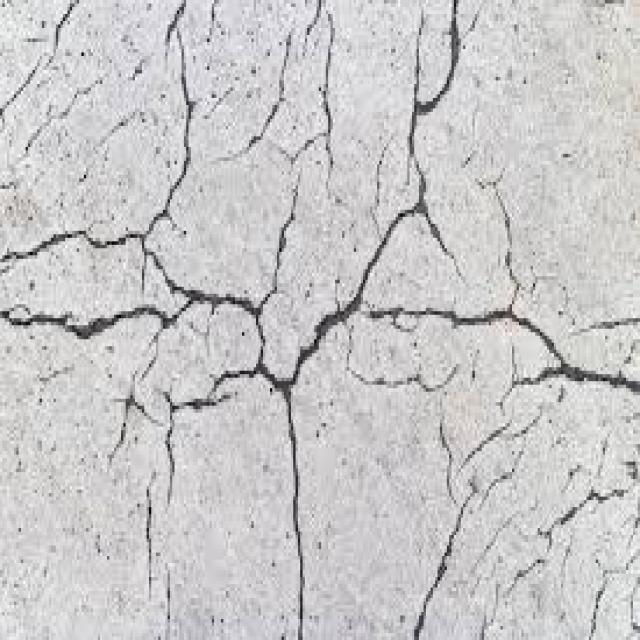corrosion: (144, 19, 422, 378), (65, 159, 186, 241), (418, 0, 453, 104)
